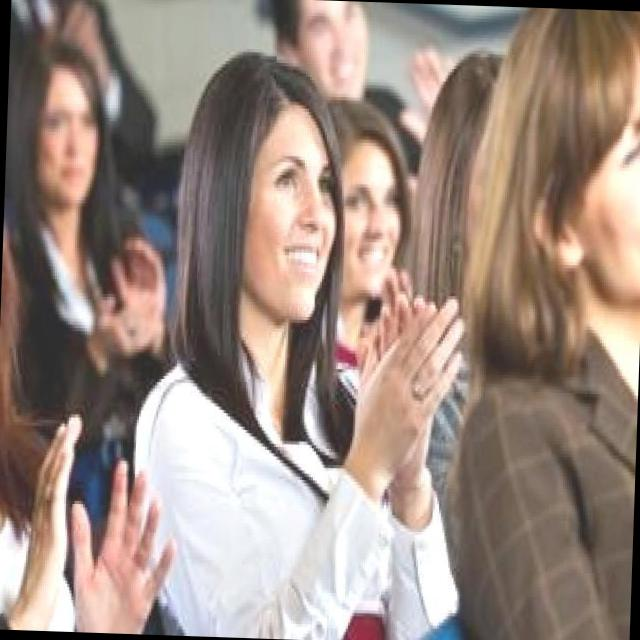no_vest: (132, 325, 406, 611), (431, 286, 640, 640)
